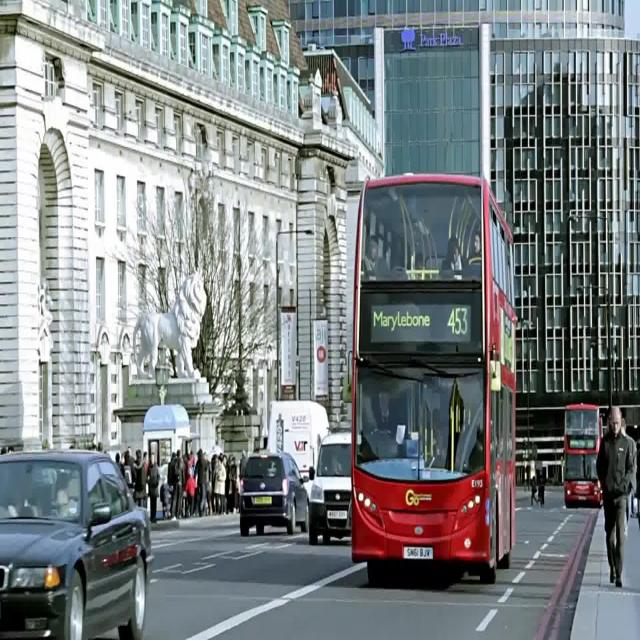Car: (0, 450, 153, 639), (240, 453, 309, 536), (309, 432, 351, 545)
bus: (352, 175, 516, 585), (564, 404, 602, 508)
